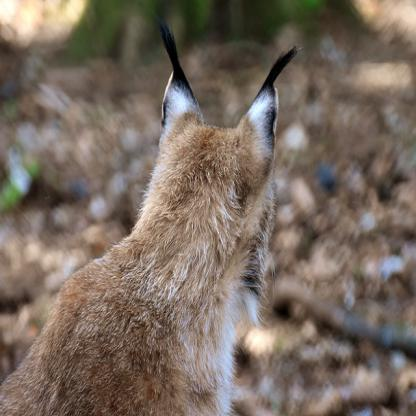cat: (0, 26, 300, 415)
